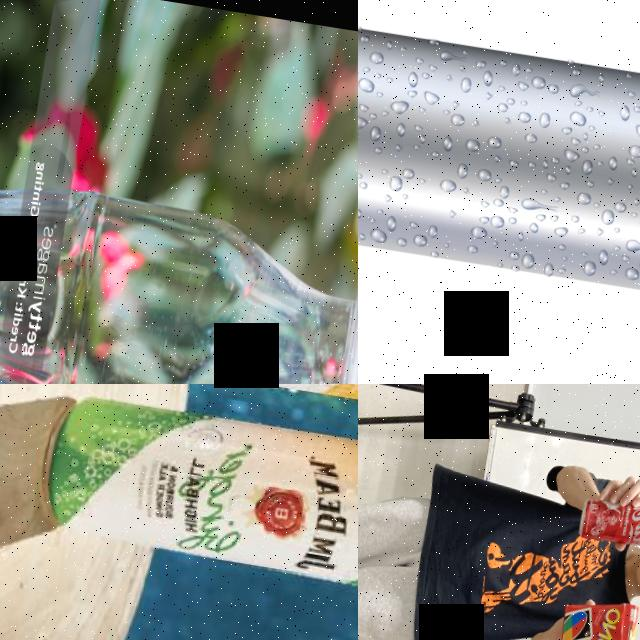bottle: (0, 139, 358, 384)
can: (358, 19, 640, 315), (32, 384, 358, 595), (576, 495, 640, 550)
